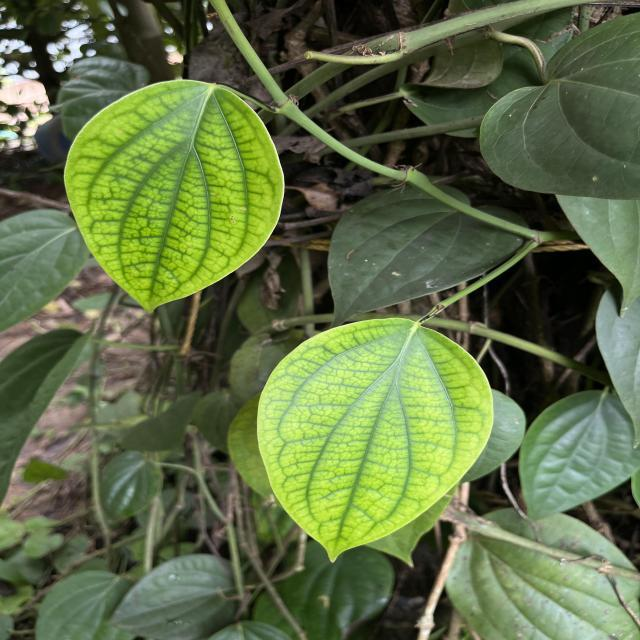Piper nigrum: (254, 316, 496, 565), (62, 78, 288, 316)
